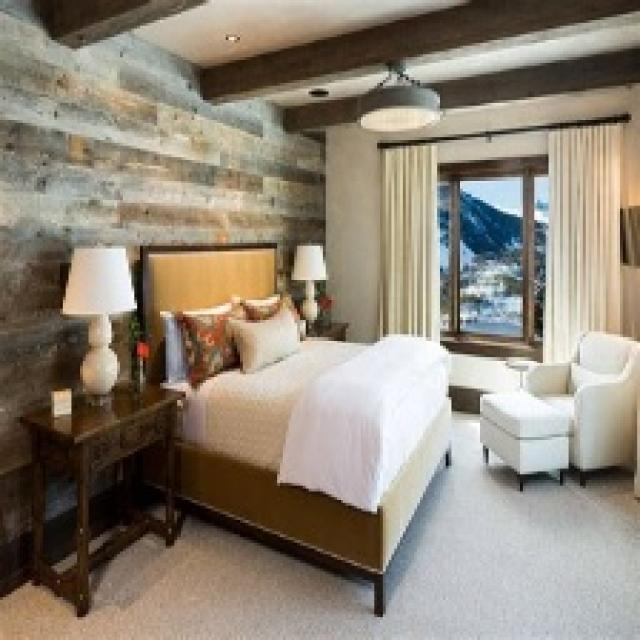Bed: (137, 240, 452, 614)
